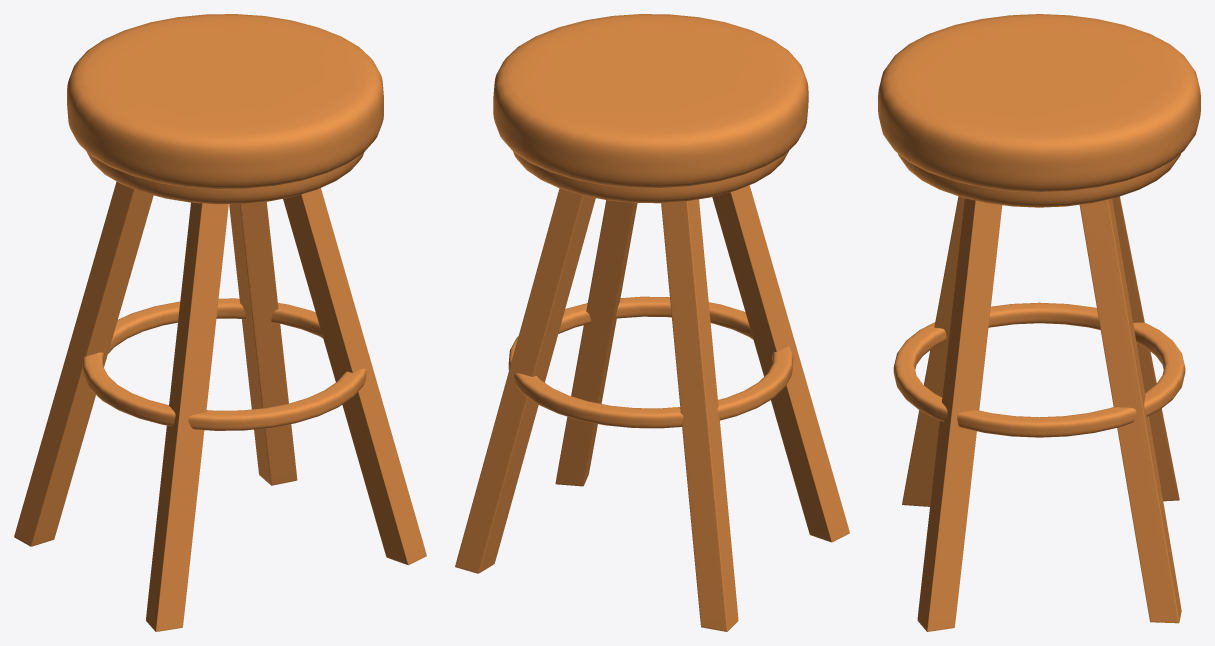
Rendered from mesaalta.fbx.
3 views of the same model, side by side, from view 1: azimuth 30°, elevation 25°; view 2: azimuth 150°, elevation 25°; view 3: azimuth 270°, elevation 25° (orthographic). The views are drawn at different scales.
Parts seen in each view (by area): view 1: mesita 2, Cube.004, Cube.008, Cube.006, Cube.007, Cylinder.002, Cylinder.001; view 2: mesita 2, Cube.006, Cube.007, Cube.004, Cylinder.002, Cube.008, Cylinder.001; view 3: mesita 2, Cube.008, Cube.007, Cylinder.002, Cube.004, Cylinder.001, Cube.006.
Boxes of the visible parts, left/top/right/bottom form: mesita 2: left=67, top=14, right=383, bottom=189; Cube.004: left=146, top=202, right=228, bottom=631; Cube.008: left=283, top=188, right=426, bottom=565; Cube.006: left=14, top=181, right=153, bottom=546; Cube.007: left=229, top=201, right=297, bottom=485; Cylinder.002: left=82, top=298, right=366, bottom=430; Cylinder.001: left=86, top=151, right=363, bottom=204; mesita 2: left=493, top=14, right=808, bottom=188; Cube.006: left=661, top=199, right=738, bottom=631; Cube.007: left=455, top=188, right=595, bottom=573; Cube.004: left=712, top=185, right=849, bottom=542; Cylinder.002: left=508, top=296, right=793, bottom=428; Cube.008: left=555, top=200, right=637, bottom=486; Cylinder.001: left=513, top=150, right=789, bottom=203; mesita 2: left=878, top=14, right=1200, bottom=192; Cube.008: left=917, top=198, right=1002, bottom=631; Cube.007: left=1079, top=198, right=1181, bottom=623; Cylinder.002: left=893, top=302, right=1185, bottom=437; Cube.004: left=902, top=196, right=964, bottom=506; Cylinder.001: left=898, top=153, right=1180, bottom=207; Cube.006: left=1112, top=196, right=1179, bottom=501.
Bounding box in the file's own units: 57.07 × 89.51 × 54.14.
